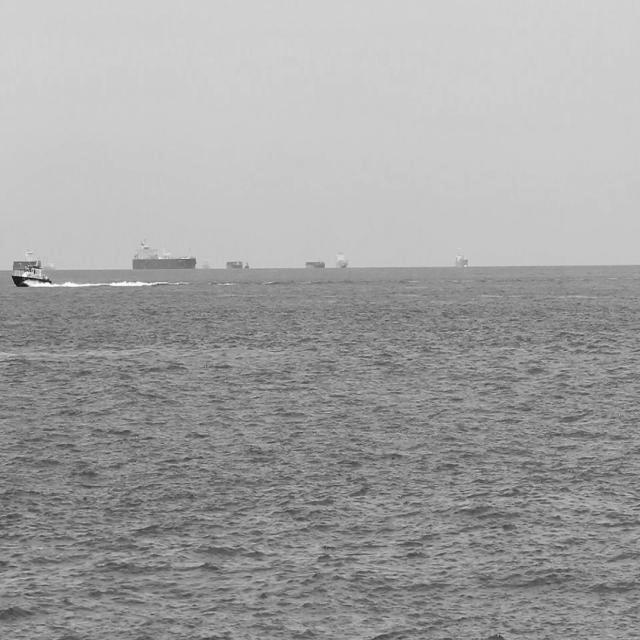ship: (132, 235, 196, 270), (11, 260, 53, 290), (11, 246, 44, 270), (453, 248, 468, 269), (304, 256, 326, 268), (336, 248, 348, 268), (42, 258, 59, 272), (202, 253, 214, 270), (225, 258, 244, 268), (242, 256, 250, 268)
